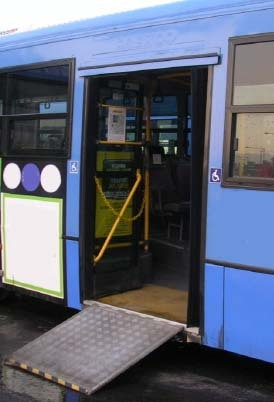entrance: (78, 62, 204, 327)
